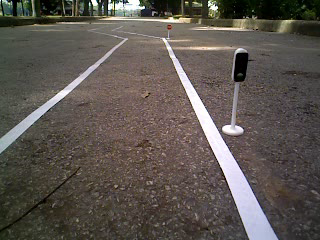Blue: (232, 47, 249, 84)
